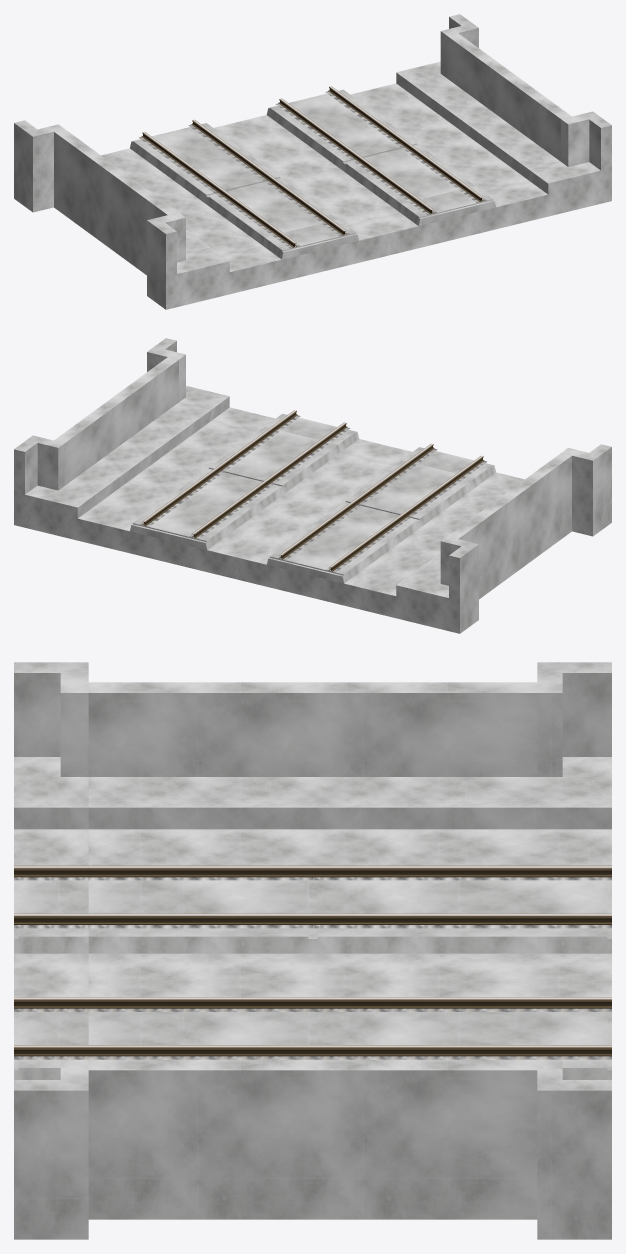
The model's file is HT_2RAIL_KONKURI25.glb.
3 renders of one model, top to bottom at view 1: azimuth 30°, elevation 25°; view 2: azimuth 150°, elevation 25°; view 3: azimuth 270°, elevation 25°, orthographic. The views are drawn at different scales.
Visible parts, largest first — view 1: obj6; view 2: obj6; view 3: obj6.
Part boxes in pixels (x1,y1,x2,y2): obj6: (14, 14, 611, 309); obj6: (14, 338, 611, 633); obj6: (14, 662, 611, 1239).
Bounding box in the file's own units: 42.36 × 6.88 × 25.
Materials: 4 (4 with a texture image).
